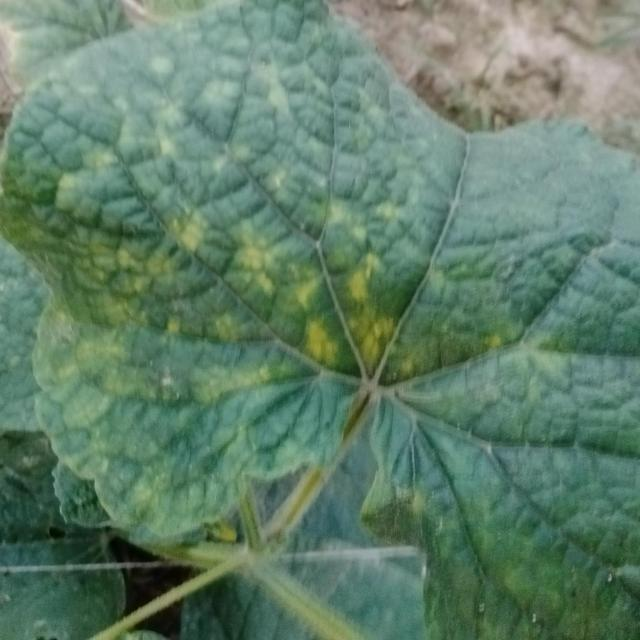cucumber_downy: (15, 13, 640, 579)
